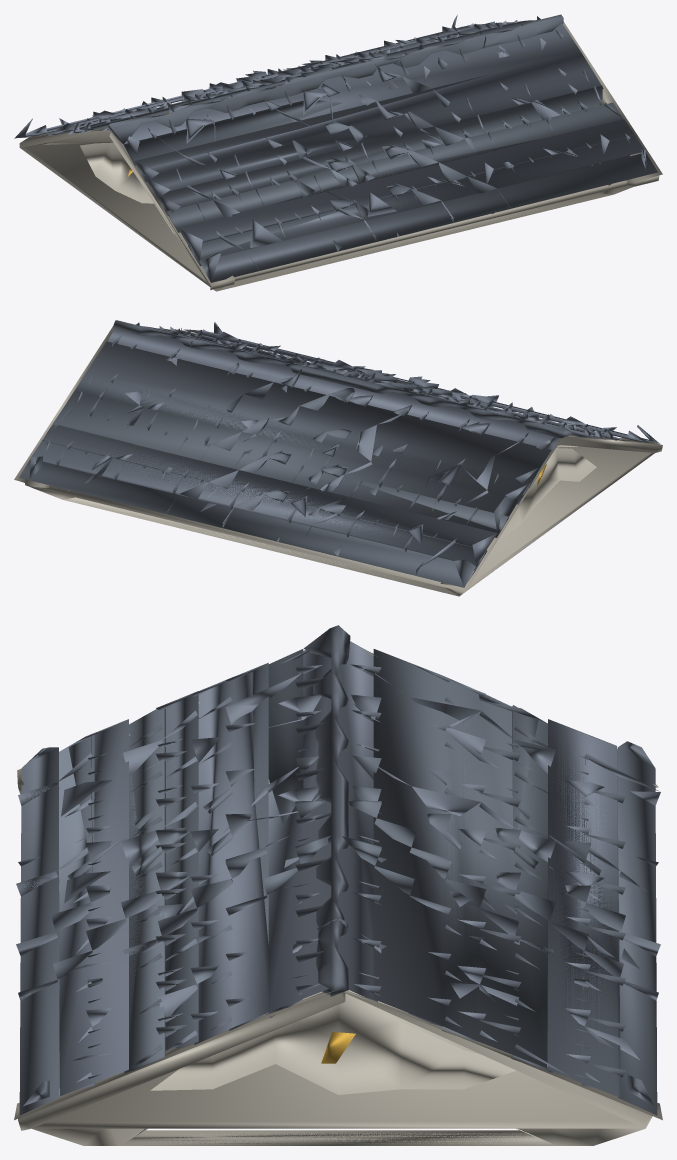
Rendered from home_villa-roof_t2_slate.glb.
3 renders of one model, top to bottom at view 1: azimuth 30°, elevation 25°; view 2: azimuth 150°, elevation 25°; view 3: azimuth 270°, elevation 25°, orthographic. The views are drawn at different scales.
Parts seen in each view (by area): view 1: tile2, tile0, tile1, marble; view 2: tile1, tile2, tile0, marble; view 3: tile2, tile1, tile0, marble.
Boxes of the visible parts, x1,y1,x2,y2 form: tile2: (25, 21, 644, 269); tile0: (14, 15, 657, 282); tile1: (15, 14, 630, 266); marble: (19, 22, 662, 291); tile1: (45, 320, 648, 583); tile2: (30, 326, 648, 575); tile0: (19, 322, 659, 587); marble: (14, 326, 662, 596); tile2: (16, 641, 660, 1097); tile1: (59, 625, 625, 1090); tile0: (16, 662, 660, 1115); marble: (14, 651, 662, 1145).
Size of the model in its own units: 7.35 by 1.81 by 5.68.
